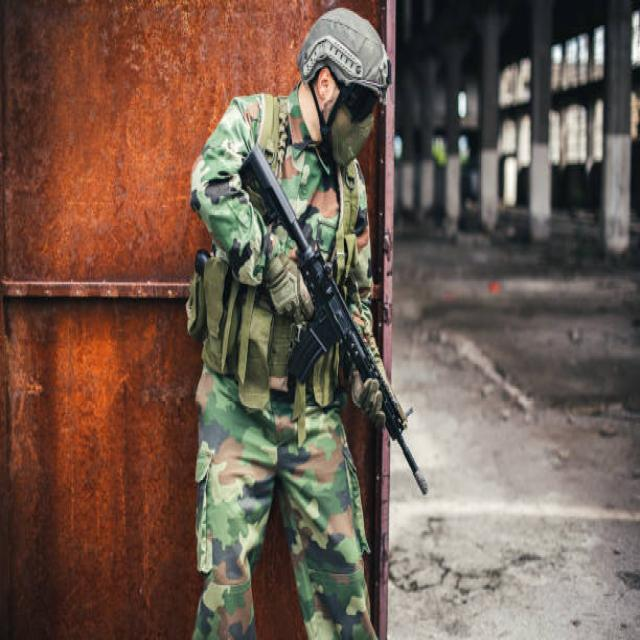soldier: (177, 6, 435, 640)
